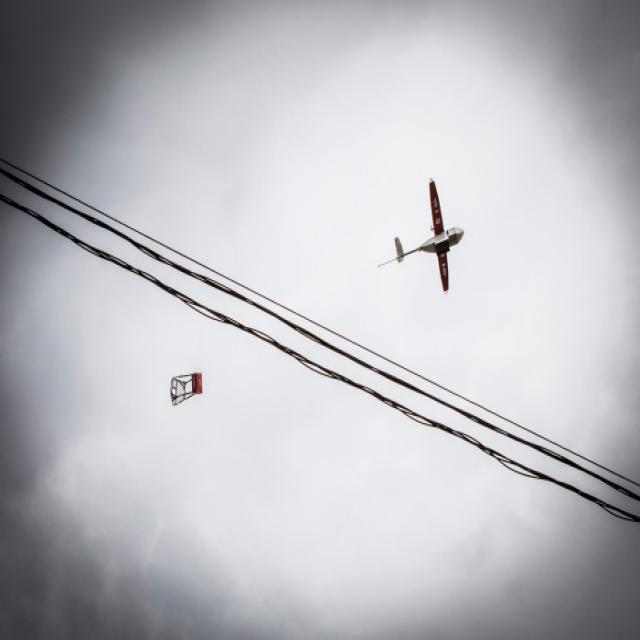iha: (422, 208, 435, 265)
